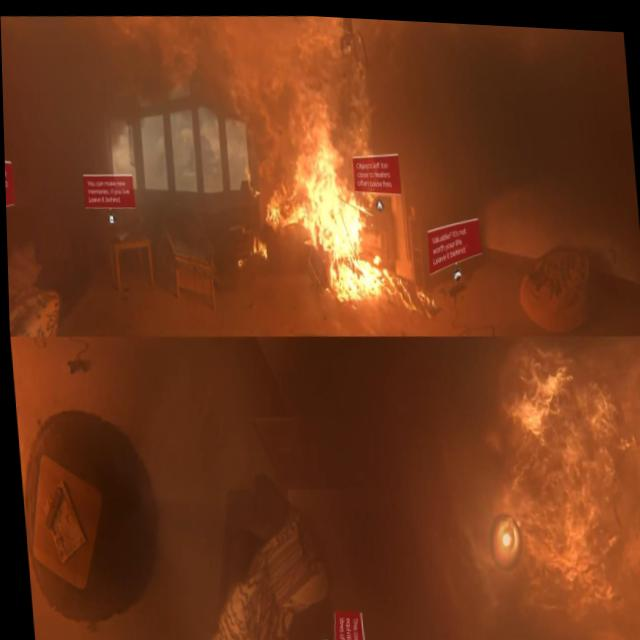fire: (256, 103, 428, 315)
